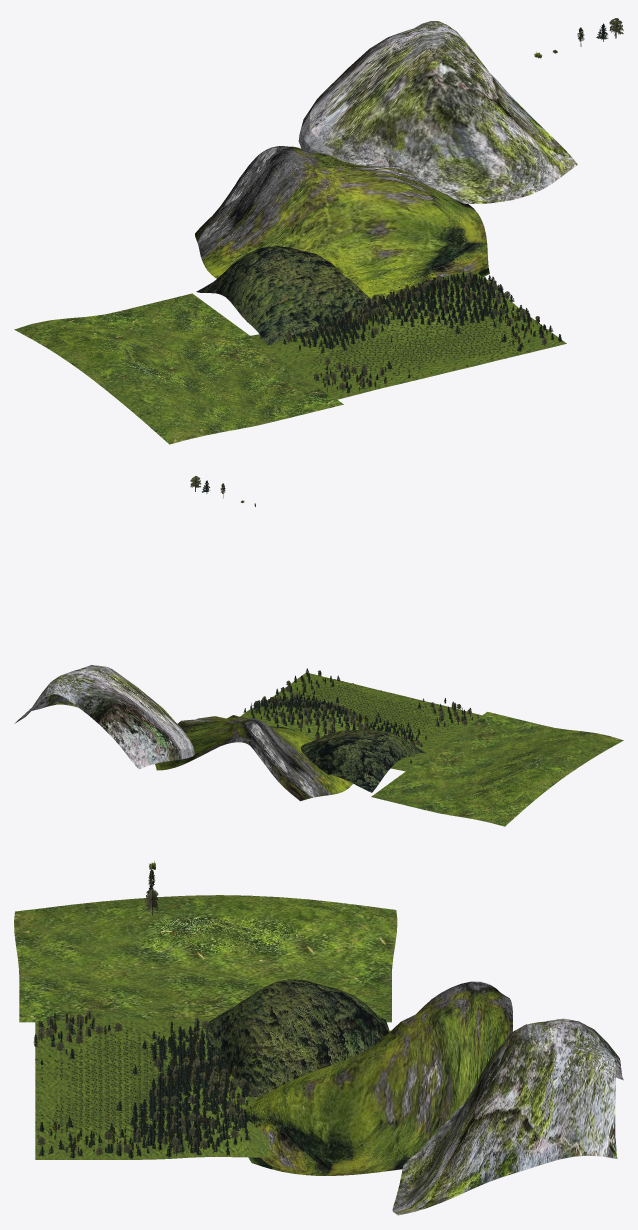
The model's file is landscape.glb.
The picture shows the model from 3 angles, top to bottom: view 1: azimuth 30°, elevation 25°; view 2: azimuth 150°, elevation 25°; view 3: azimuth 270°, elevation 25°; orthographic projection. The views are drawn at different scales.
Parts seen in each view (by area): view 1: Plane_Material.001_0, Plane.009_Material.009_0, Plane.007_Material.008_0, Plane.006_Material.007_0, Plane.004_Material.005_0, Plane.001_Material.002_0, Plane.005_Material.006_0, Plane.002_Material.003_0, Plane.003_Material.004_0; view 2: Plane_Material.001_0, Plane.009_Material.009_0, Plane.007_Material.008_0, Plane.006_Material.007_0, Plane.004_Material.005_0, Plane.001_Material.002_0, Plane.005_Material.006_0, Plane.002_Material.003_0, Plane.003_Material.004_0; view 3: Plane_Material.001_0, Plane.007_Material.008_0, Plane.009_Material.009_0, Plane.006_Material.007_0, Plane.004_Material.005_0, Plane.001_Material.002_0, Plane.005_Material.006_0, Plane.002_Material.003_0, Plane.003_Material.004_0.
Boxes of the visible parts, x1=… form: Plane_Material.001_0: x1=14, y1=271, x2=566, y2=444; Plane.009_Material.009_0: x1=298, y1=21, x2=577, y2=203; Plane.007_Material.008_0: x1=195, y1=146, x2=489, y2=302; Plane.006_Material.007_0: x1=196, y1=246, x2=372, y2=344; Plane.004_Material.005_0: x1=260, y1=23, x2=608, y2=393; Plane.001_Material.002_0: x1=302, y1=52, x2=542, y2=383; Plane.005_Material.006_0: x1=286, y1=18, x2=623, y2=391; Plane.002_Material.003_0: x1=307, y1=50, x2=557, y2=379; Plane.003_Material.004_0: x1=299, y1=27, x2=584, y2=392; Plane_Material.001_0: x1=240, y1=673, x2=623, y2=826; Plane.009_Material.009_0: x1=14, y1=665, x2=194, y2=769; Plane.007_Material.008_0: x1=155, y1=715, x2=352, y2=801; Plane.006_Material.007_0: x1=300, y1=729, x2=425, y2=792; Plane.004_Material.005_0: x1=202, y1=480, x2=471, y2=763; Plane.001_Material.002_0: x1=254, y1=503, x2=455, y2=740; Plane.005_Material.006_0: x1=190, y1=476, x2=471, y2=758; Plane.002_Material.003_0: x1=241, y1=500, x2=448, y2=738; Plane.003_Material.004_0: x1=220, y1=483, x2=478, y2=740; Plane_Material.001_0: x1=14, y1=895, x2=397, y2=1159; Plane.007_Material.008_0: x1=246, y1=981, x2=512, y2=1175; Plane.009_Material.009_0: x1=392, y1=1018, x2=623, y2=1215; Plane.006_Material.007_0: x1=205, y1=979, x2=389, y2=1097; Plane.004_Material.005_0: x1=38, y1=884, x2=255, y2=1158; Plane.001_Material.002_0: x1=35, y1=861, x2=179, y2=1151; Plane.005_Material.006_0: x1=37, y1=889, x2=257, y2=1157; Plane.002_Material.003_0: x1=37, y1=875, x2=186, y2=1145; Plane.003_Material.004_0: x1=33, y1=869, x2=260, y2=1155.
Size of the model in its own units: 95.92 by 44.43 by 72.7.
Materials: 9 (9 with a texture image).
